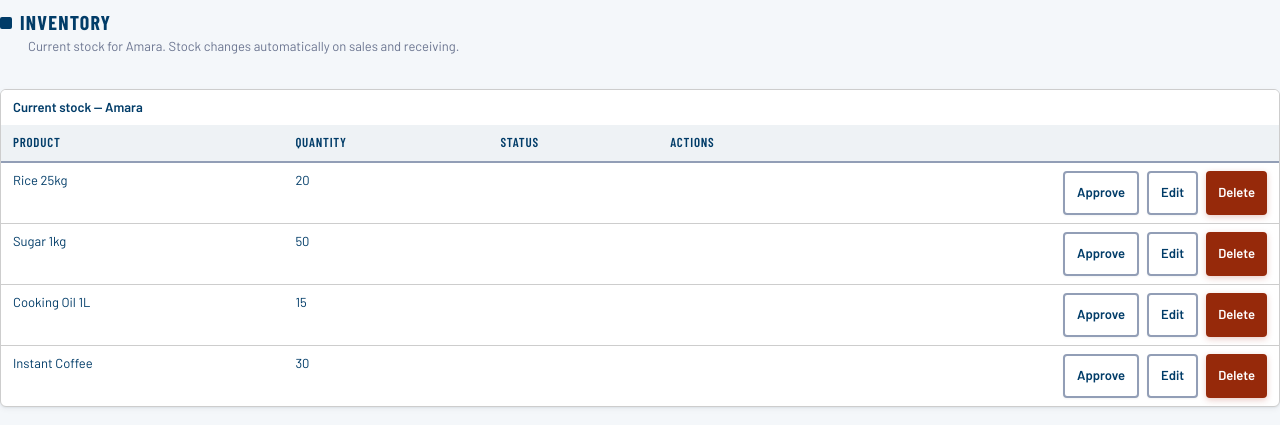
Test case: InventoryPage › lets an admin approve a stock row (bookkeeping indicator)
Click the button "Approve" in the row of "Rice 25kg": (1101,193) top-left (1063, 171), bottom-right (1139, 215)
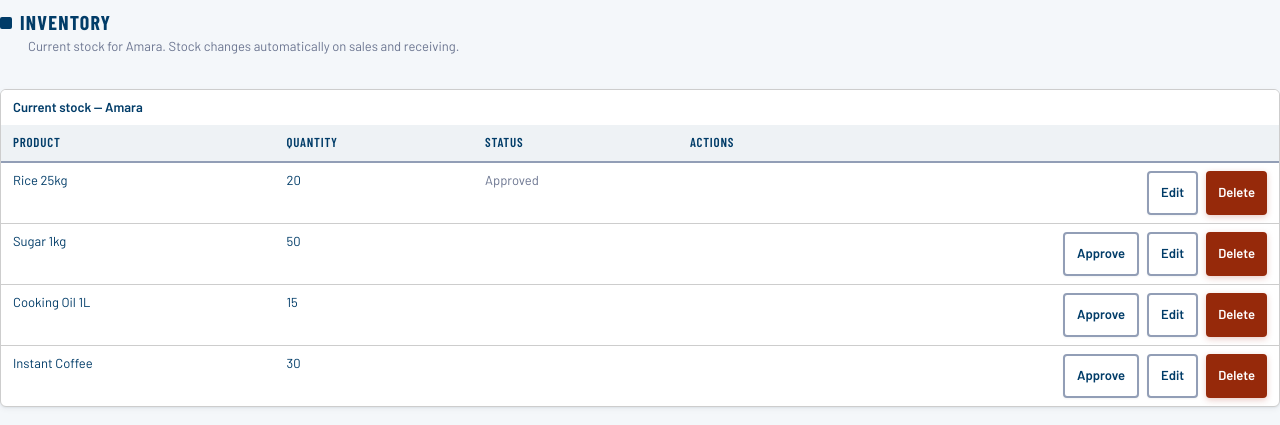
Expected: the button "Edit" in the row of "Rice 25kg" is shown, top-left (1147, 171), bottom-right (1198, 215)
Expected: the text "Approved" is shown, top-left (485, 172), bottom-right (539, 188)
